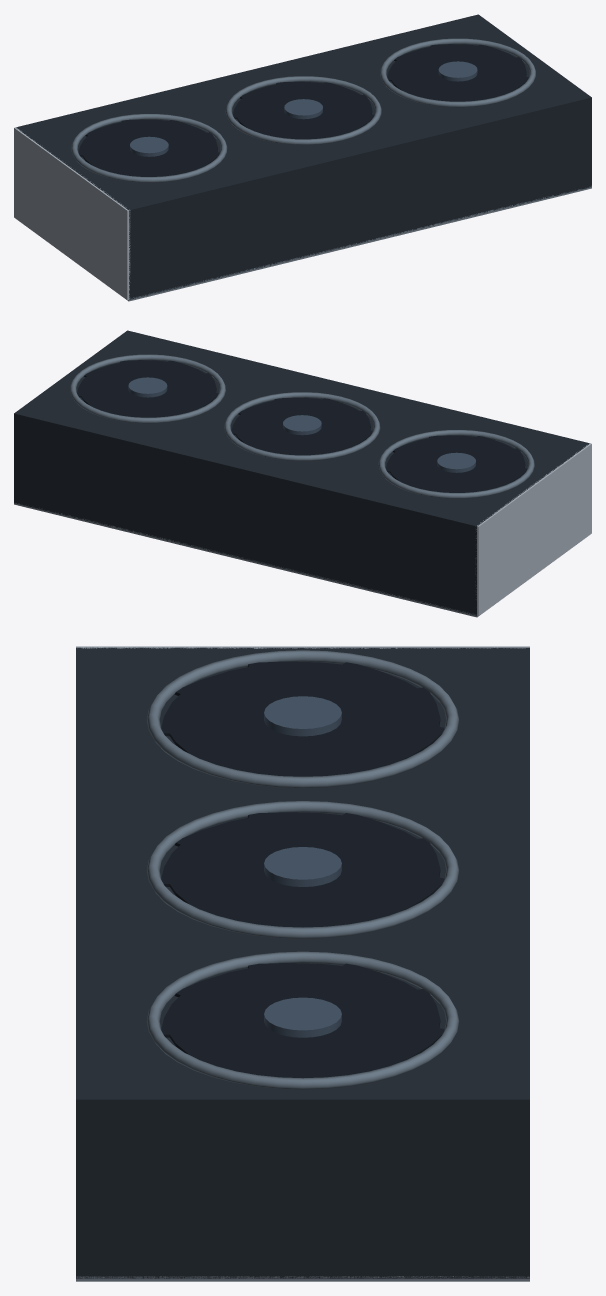
Rendered from retail-asrock-radeon-rx-9070-xt-taichi-16gb-oc.glb.
3 renders of one model, top to bottom at view 1: azimuth 30°, elevation 25°; view 2: azimuth 150°, elevation 25°; view 3: azimuth 270°, elevation 25°, orthographic. The views are drawn at different scales.
Visible parts, largest first — view 1: Cooler shroud, Cooler blade (×27), Bracket, Fan rim (×3), Fan hub (×3), Backplate; view 2: Cooler shroud, Cooler blade (×27), Bracket, Fan rim (×3), Fan hub (×3), Backplate; view 3: Cooler shroud, Cooler blade (×27), Fan rim (×3), Fan hub (×3), Backplate, Bracket.
Part boxes in pixels (box(x1,y1,x2,y2)): Cooler shroud: box(16, 14, 591, 299); Cooler blade (×27): box(78, 44, 528, 176); Bracket: box(14, 127, 130, 300); Fan rim (×3): box(71, 38, 535, 182); Fan hub (×3): box(130, 61, 477, 156); Backplate: box(29, 185, 591, 301); Cooler shroud: box(14, 330, 590, 615); Cooler blade (×27): box(77, 360, 527, 492); Bracket: box(475, 443, 591, 616); Fan rim (×3): box(70, 354, 534, 498); Fan hub (×3): box(128, 377, 475, 472); Backplate: box(14, 503, 576, 617); Cooler shroud: box(76, 647, 529, 1278); Cooler blade (×27): box(161, 661, 444, 1078); Fan rim (×3): box(146, 650, 459, 1089); Fan hub (×3): box(264, 696, 341, 1037); Backplate: box(76, 1276, 529, 1281); Bracket: box(76, 646, 529, 648).
Bounding box in the file's own units: 0.331 × 0.0655 × 0.14.
